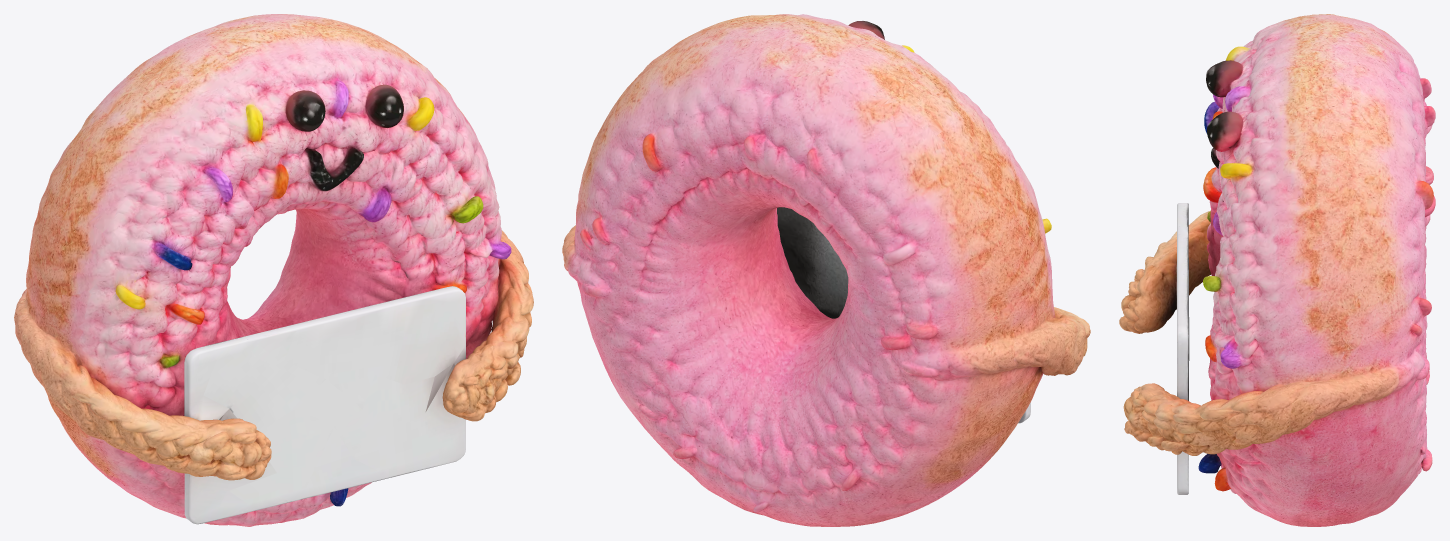
File: donut.glb
3 views of the same model, side by side, from view 1: azimuth 30°, elevation 25°; view 2: azimuth 150°, elevation 25°; view 3: azimuth 270°, elevation 25° (orthographic). The views are drawn at different scales.
Visible parts, largest first — view 1: model; view 2: model; view 3: model.
Boxes of the visible parts, x1,y1,x2,y2 form: model: [14, 14, 533, 526]; model: [562, 14, 1090, 526]; model: [1119, 14, 1435, 526].
Bounding box in the file's own units: 1.9 × 1.82 × 1.12.
Materials: 1 (1 with a texture image).
